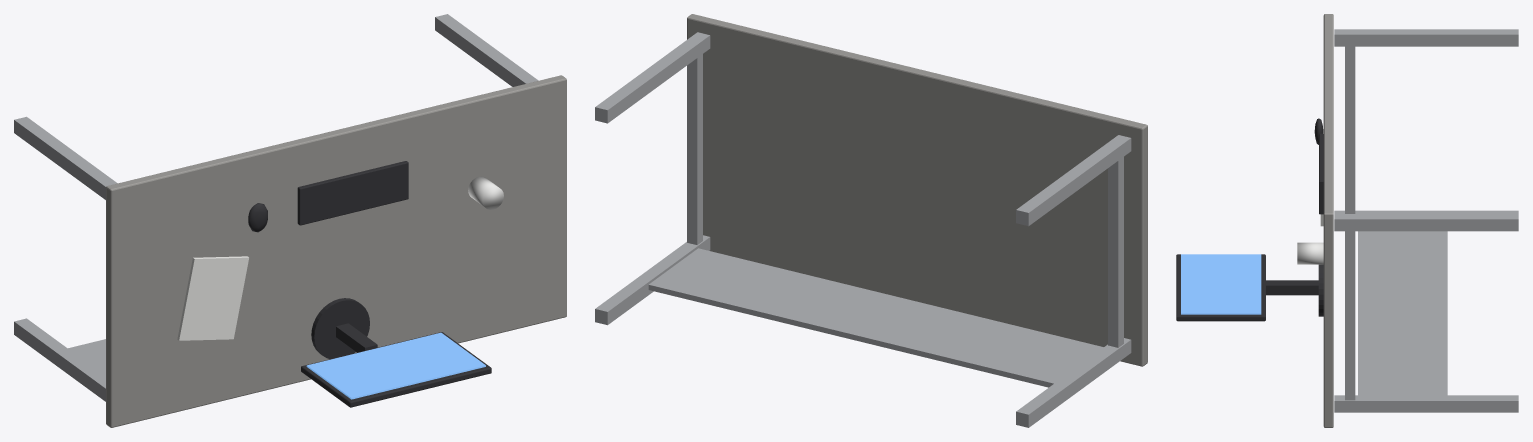
Rendered from private_office_desk.glb.
The picture shows the model from 3 angles, left to right: view 1: azimuth 30°, elevation 25°; view 2: azimuth 150°, elevation 25°; view 3: azimuth 270°, elevation 25°; orthographic projection. The views are drawn at different scales.
Visible parts, largest first — view 1: po_desk_top, po_mon_screen, po_clut_papers, po_clut_keyboard, po_desk_leg.002, po_desk_leg.003, po_desk_leg, po_mon_base, po_mon_panel, po_clut_mug, po_desk_modesty, po_mon_neck; view 2: po_desk_top, po_desk_modesty, po_desk_rail, po_desk_rail.001, po_desk_leg.002, po_desk_leg, po_desk_leg.003, po_desk_leg.001; view 3: po_desk_modesty, po_mon_screen, po_desk_top, po_desk_leg, po_desk_leg.002, po_desk_leg.001, po_desk_rail, po_desk_rail.001, po_mon_panel, po_mon_neck, po_desk_leg.003, po_clut_mug (+1 smaller).
Boxes of the visible parts, x1,y1,x2,y2 form: po_desk_top: (106, 75, 566, 427); po_mon_screen: (306, 332, 485, 399); po_clut_papers: (177, 256, 248, 340); po_clut_keyboard: (297, 161, 408, 225); po_desk_leg.002: (14, 116, 117, 199); po_desk_leg.003: (14, 318, 105, 401); po_desk_leg: (435, 14, 538, 86); po_mon_base: (311, 298, 369, 359); po_mon_panel: (301, 332, 491, 407); po_clut_mug: (468, 176, 503, 209); po_desk_modesty: (68, 339, 105, 375); po_mon_neck: (336, 323, 377, 352); po_desk_top: (687, 14, 1147, 366); po_desk_modesty: (648, 248, 1103, 387); po_desk_rail: (687, 54, 702, 244); po_desk_rail.001: (1108, 157, 1123, 347); po_desk_leg.002: (1016, 135, 1131, 226); po_desk_leg: (595, 32, 710, 123); po_desk_leg.003: (1016, 338, 1131, 427); po_desk_leg.001: (595, 235, 710, 325); po_desk_modesty: (1358, 231, 1447, 395); po_mon_screen: (1181, 254, 1261, 314); po_desk_top: (1323, 14, 1333, 427); po_desk_leg: (1334, 214, 1518, 231); po_desk_leg.002: (1334, 29, 1518, 46); po_desk_leg.001: (1334, 395, 1518, 412); po_desk_rail: (1345, 231, 1355, 400); po_desk_rail.001: (1345, 46, 1355, 213); po_mon_panel: (1176, 254, 1265, 321); po_mon_neck: (1266, 280, 1318, 295); po_desk_leg.003: (1334, 210, 1518, 213); po_clut_mug: (1297, 242, 1323, 264).
Size of the model in its own units: 1.8 by 0.9 by 1.3.
